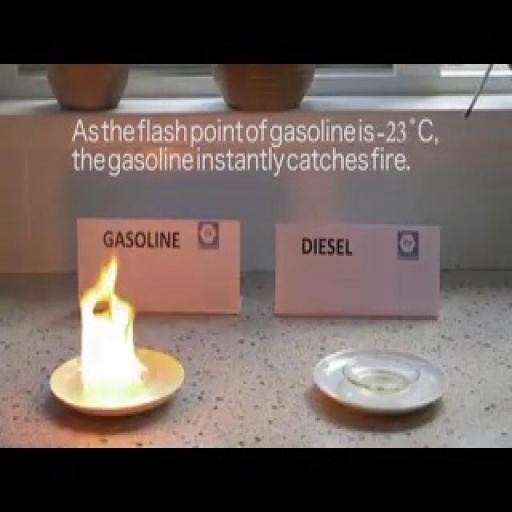smoke: (60, 275, 162, 410)
